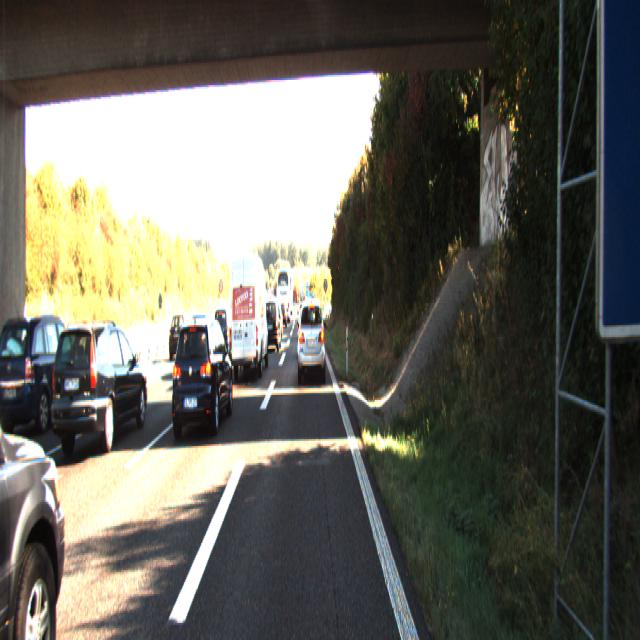Car: (0, 277, 82, 638), (51, 318, 150, 462), (0, 313, 89, 438), (169, 315, 234, 441), (227, 250, 269, 380), (297, 294, 326, 382), (262, 299, 282, 353)
